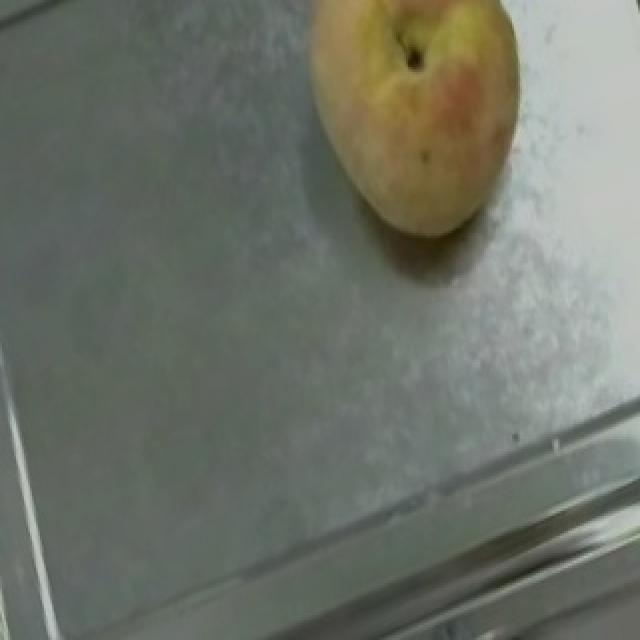Fruit: (264, 0, 564, 273)
